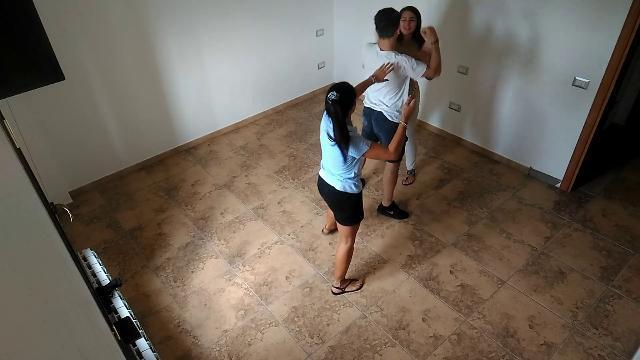knife: (407, 89, 418, 106)
violence: (314, 62, 420, 298), (356, 6, 444, 222)
